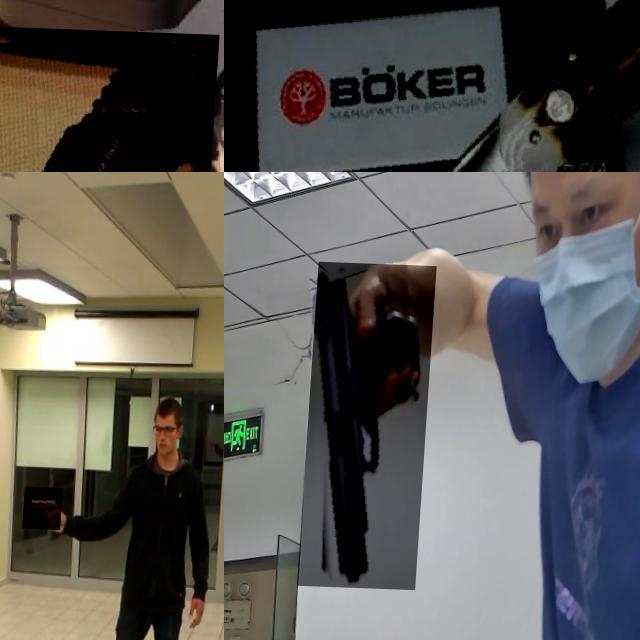-: (224, 0, 640, 172), (0, 24, 223, 172)
gun-knife-thesis - v11 Yolov5 augmented: (304, 260, 440, 588), (28, 486, 68, 529)
